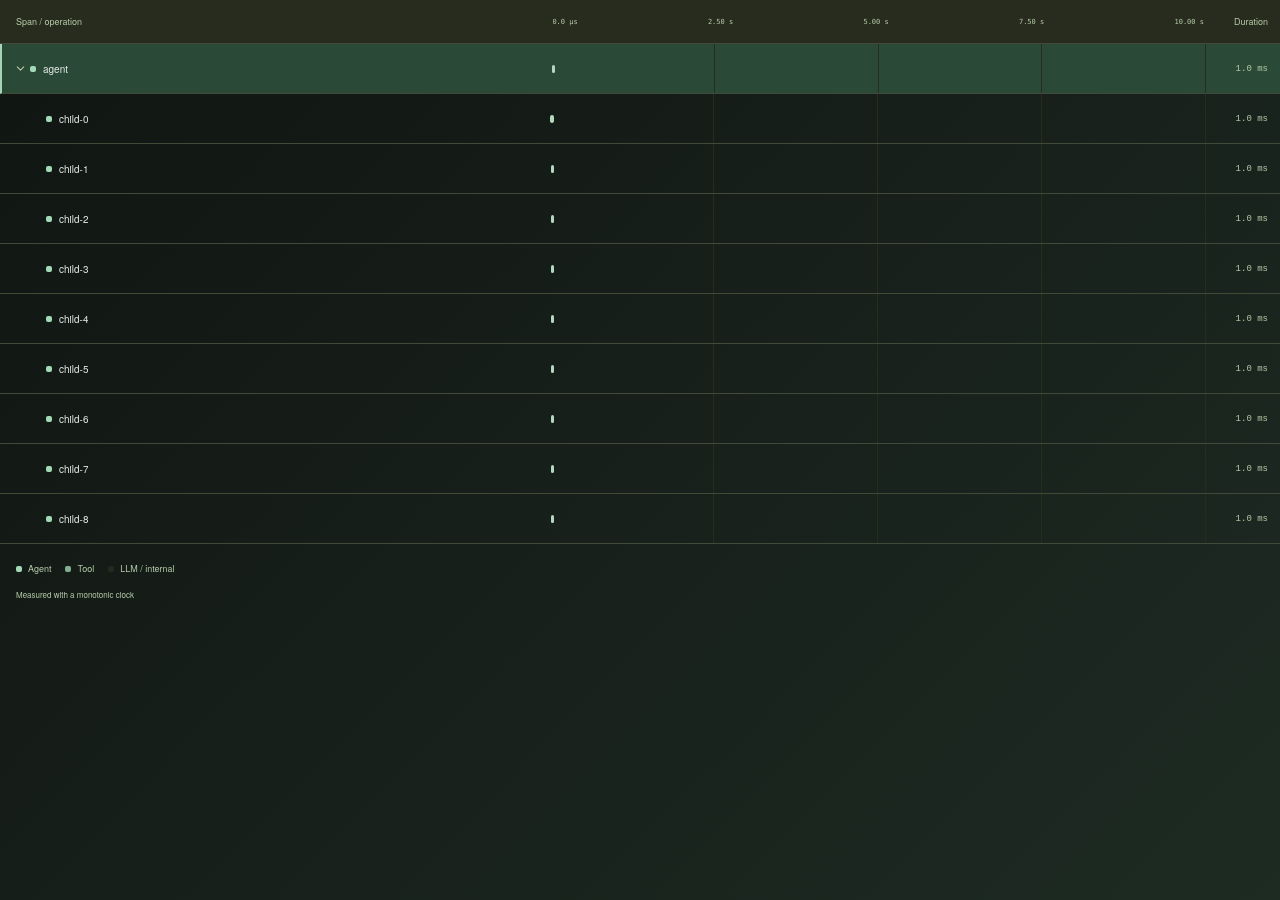
Test: windows ten thousand spans and supports keyboard jumps beyond the mounted rows
The image size is (1280, 900).
Step 1. Press End in the button "agent", box 30,56 -> 68,80
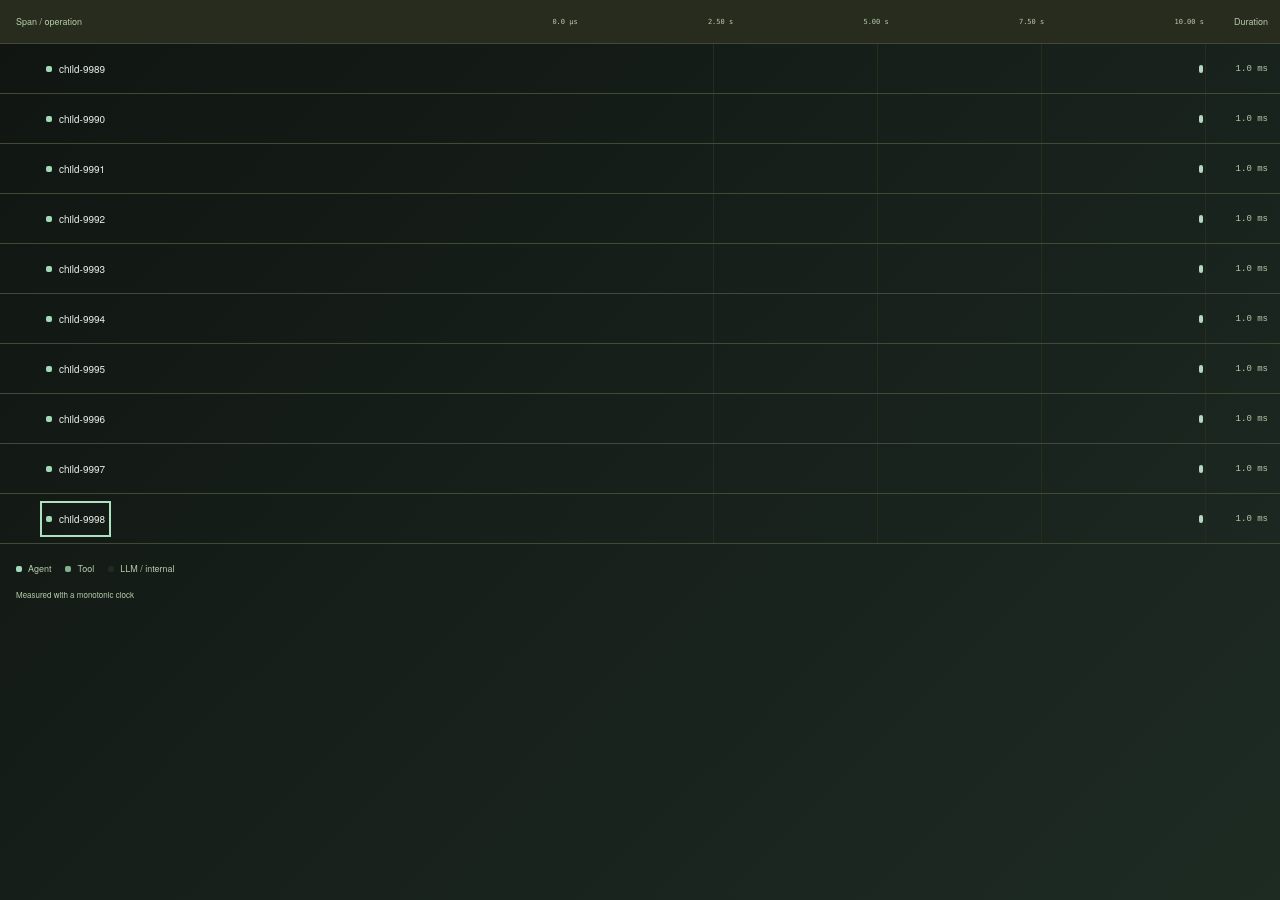
Step 2. Press Home in the button "child-9998", box 46,506 -> 105,530
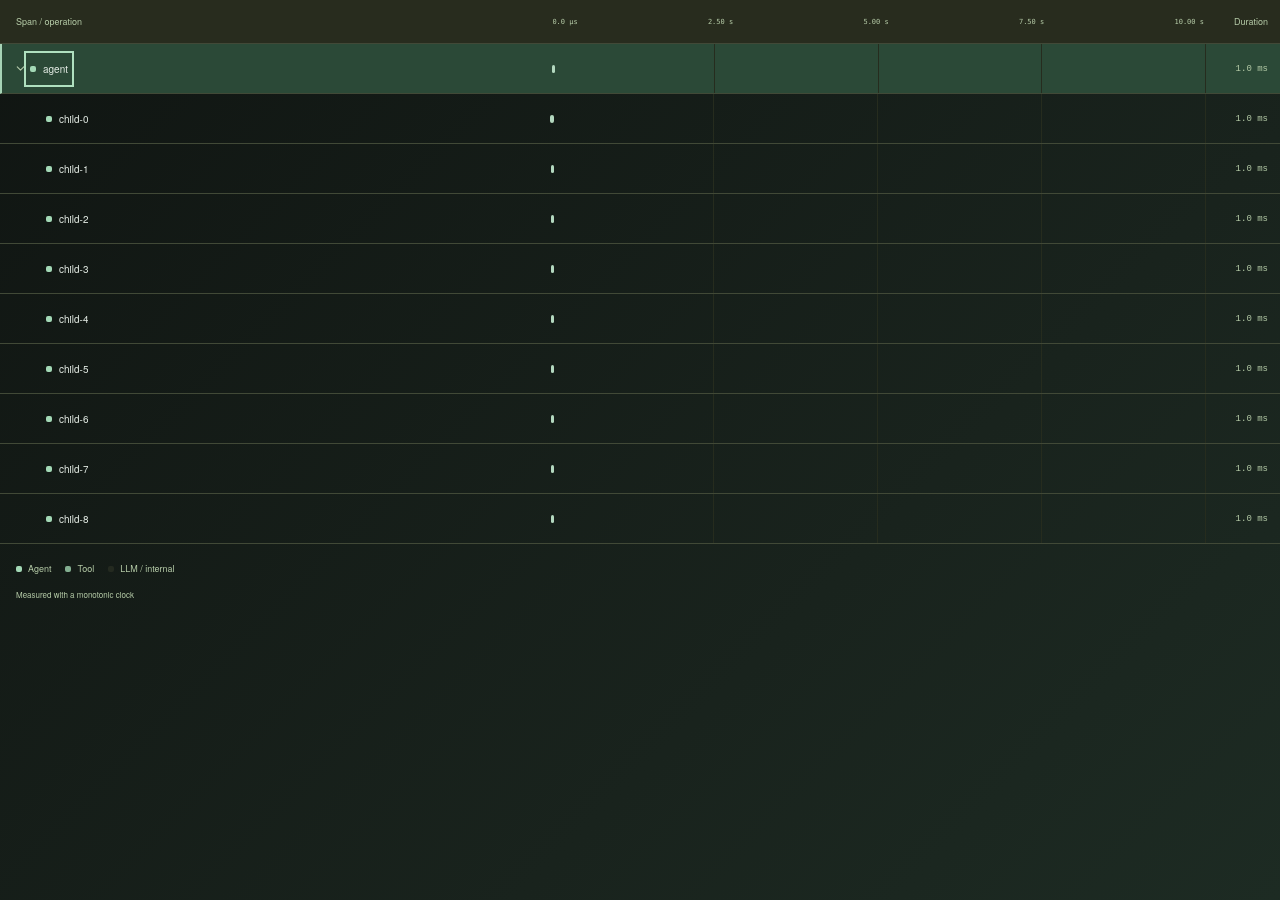
Step 3. Click the button named "Collapse agent" → {"x": 20, "y": 68}, box 11,59 -> 30,78
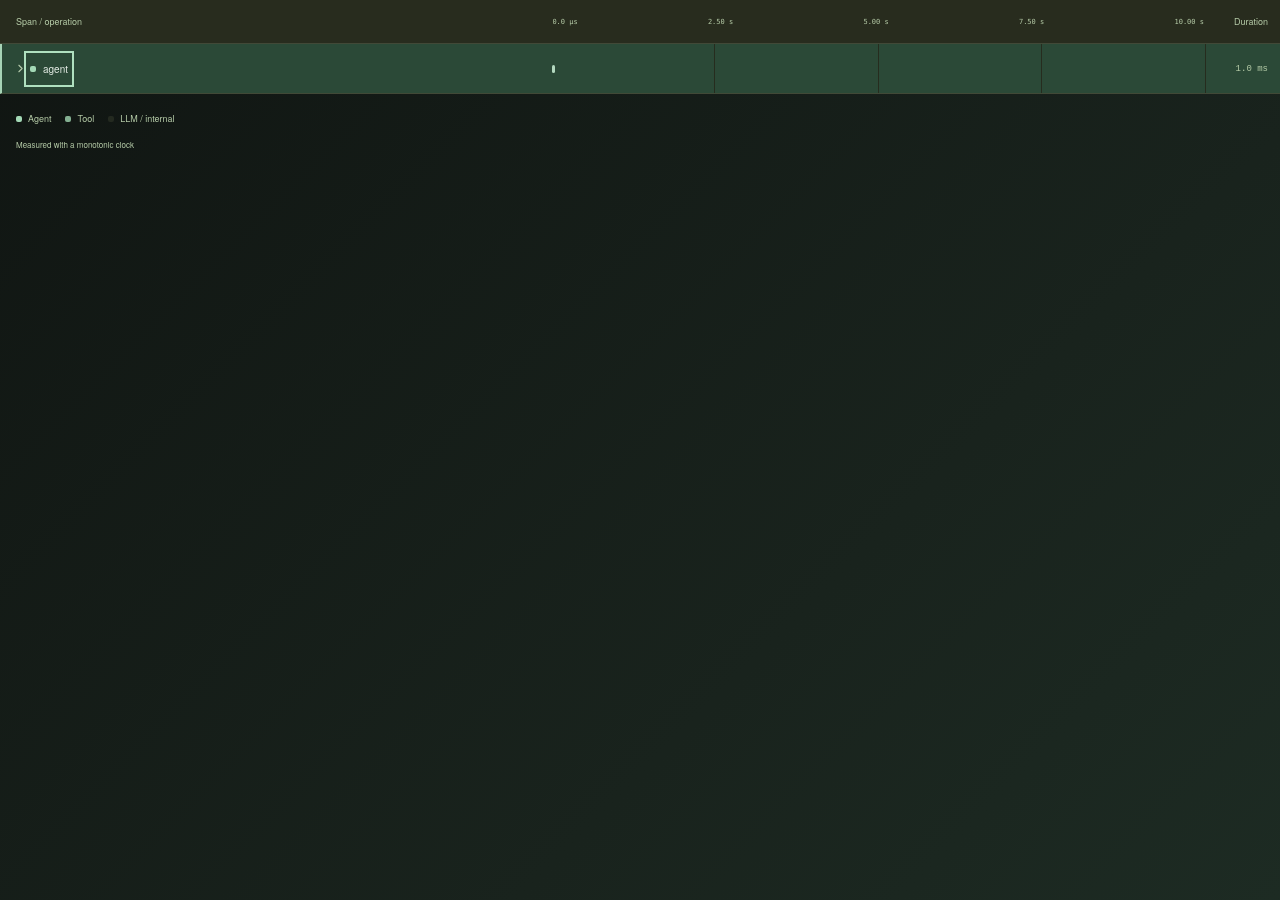
Now the number of list items with class "span-row" is 1, box 0,44 -> 1279,94
